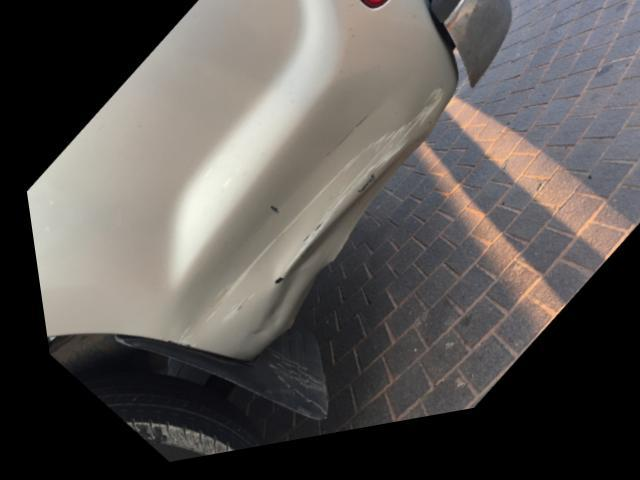scratch: (164, 95, 441, 343)
